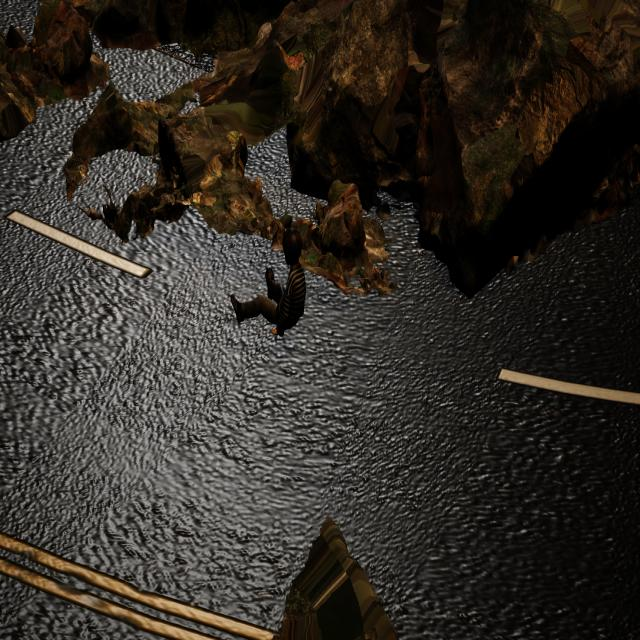Human: (229, 229, 310, 344)
